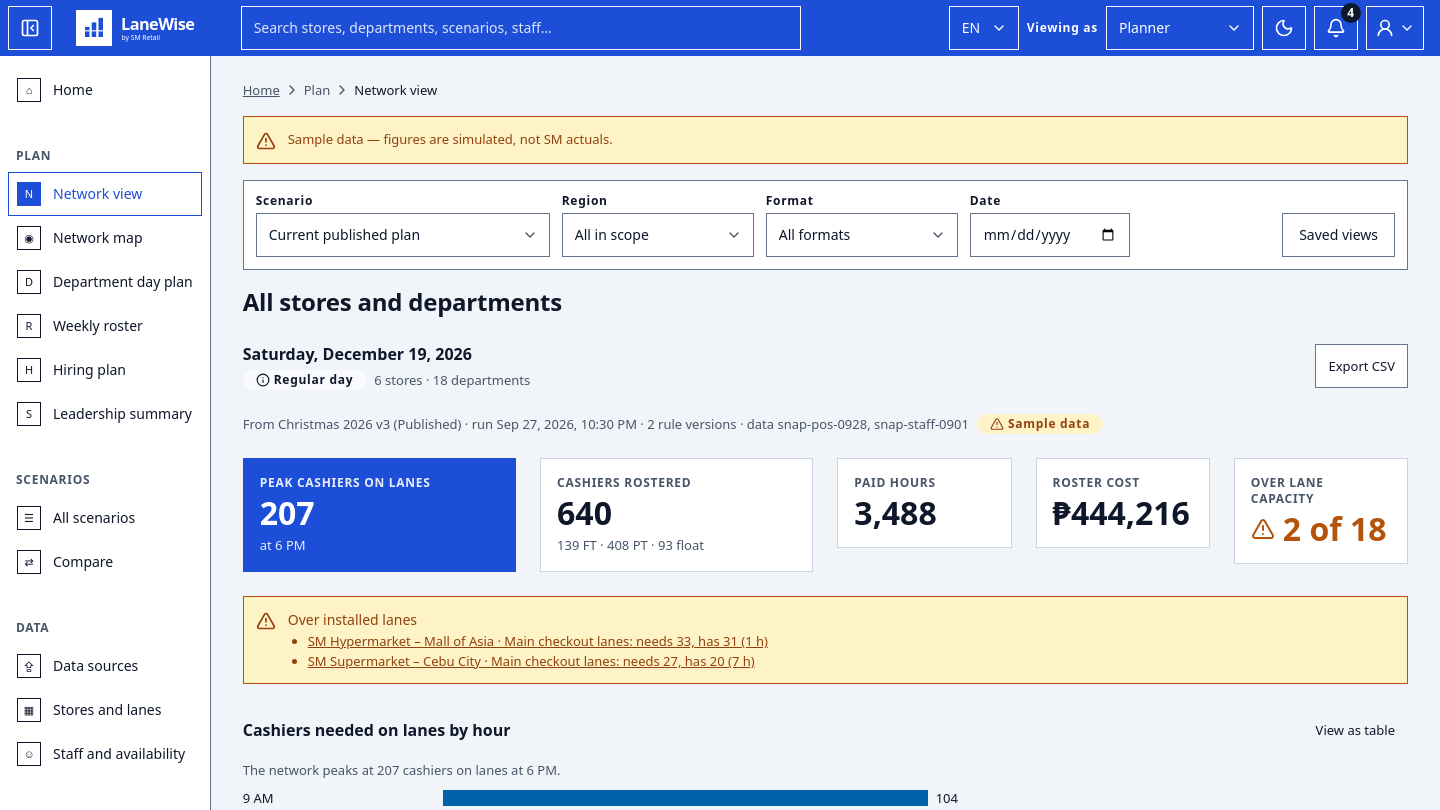
Scenario: "Viewing as" role switcher (requirement 3) › goes Home when the new role may not open the current page, and later requests carry the new role
This screenshot has width=1440, height=810.
Select "Staff" in the dropdown labelled "Viewing as": (1180, 28) x1=1106 y1=6 x2=1254 y2=50
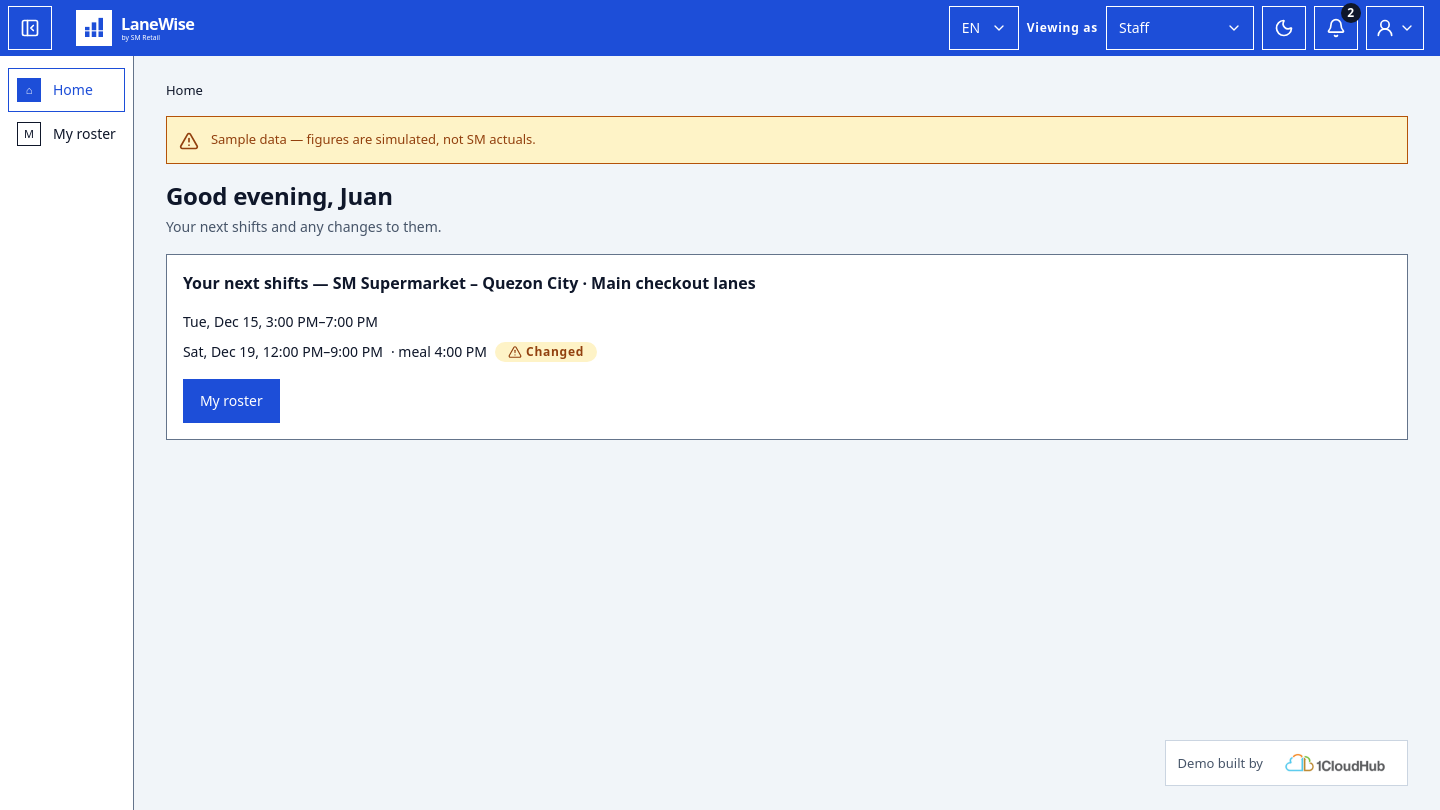
Expected: the heading "Your next shifts" is shown, x1=183 y1=271 x2=756 y2=295
Expected: the link "M My roster" is shown, x1=17 y1=122 x2=116 y2=146
